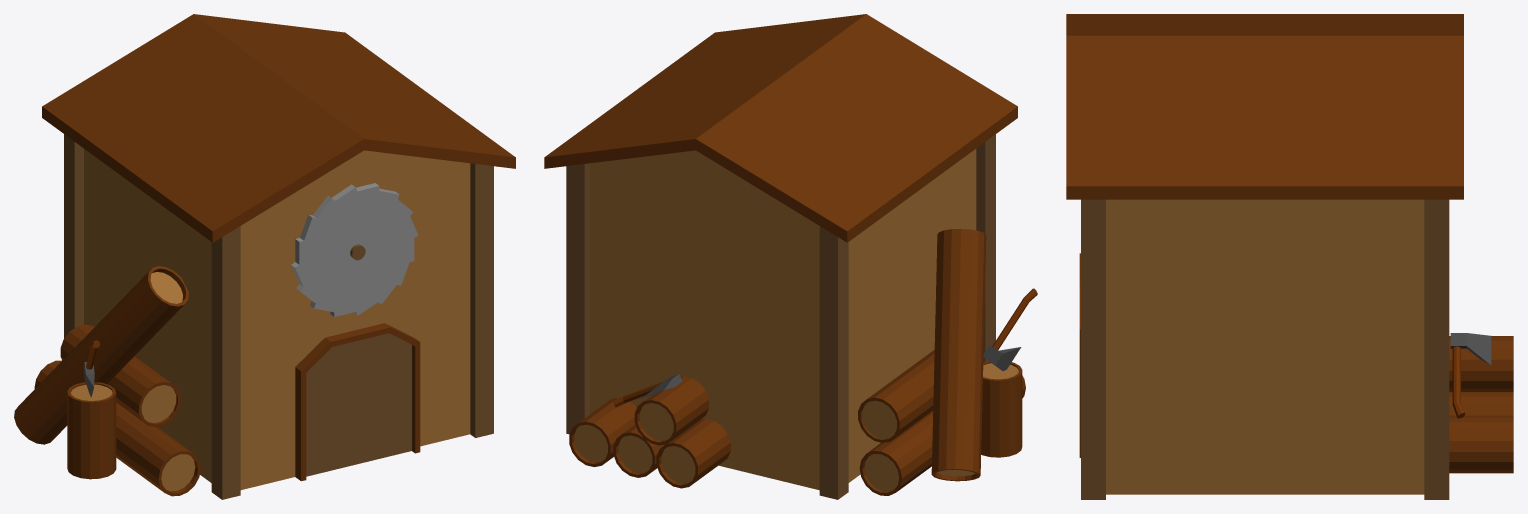
Rendered from Aserradero.glb.
3 renders of one model, left to right at view 1: azimuth 30°, elevation 25°; view 2: azimuth 150°, elevation 25°; view 3: azimuth 270°, elevation 25°, orthographic. The views are drawn at different scales.
Parts seen in each view (by area): view 1: Cube.001; view 2: Cube.001; view 3: Cube.001.
Part boxes in pixels (left/top/right/bottom): Cube.001: left=14, top=14, right=515, bottom=499; Cube.001: left=544, top=14, right=1037, bottom=499; Cube.001: left=1066, top=14, right=1513, bottom=499.
Size of the model in its own units: 7.93 by 6.68 by 6.91.
